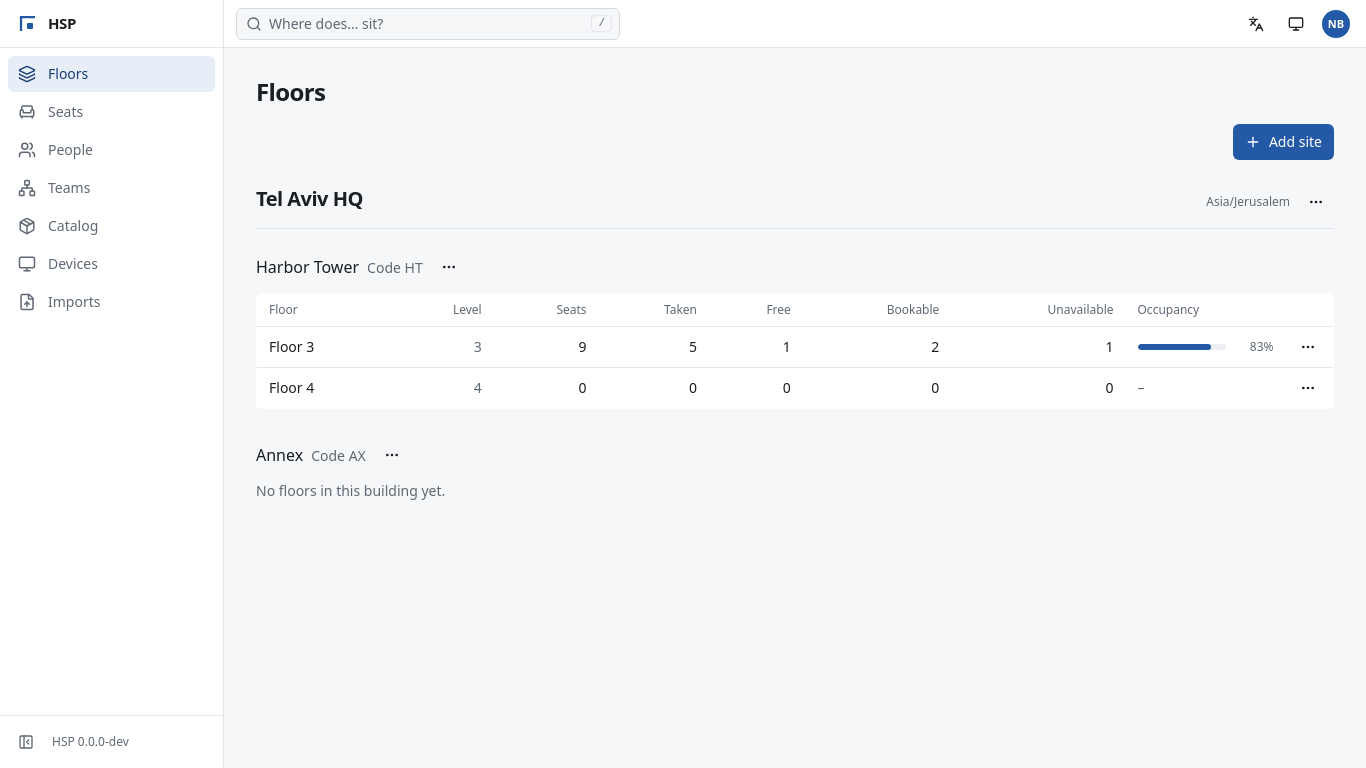
Scenario: floors page (docs/0085, docs/0087) › admins add, edit and archive locations; Undo restores and gives seats back
The width and height of the screenshot is (1366, 768).
Click the button "Add site": (1283,142) [1233,124,1334,160]
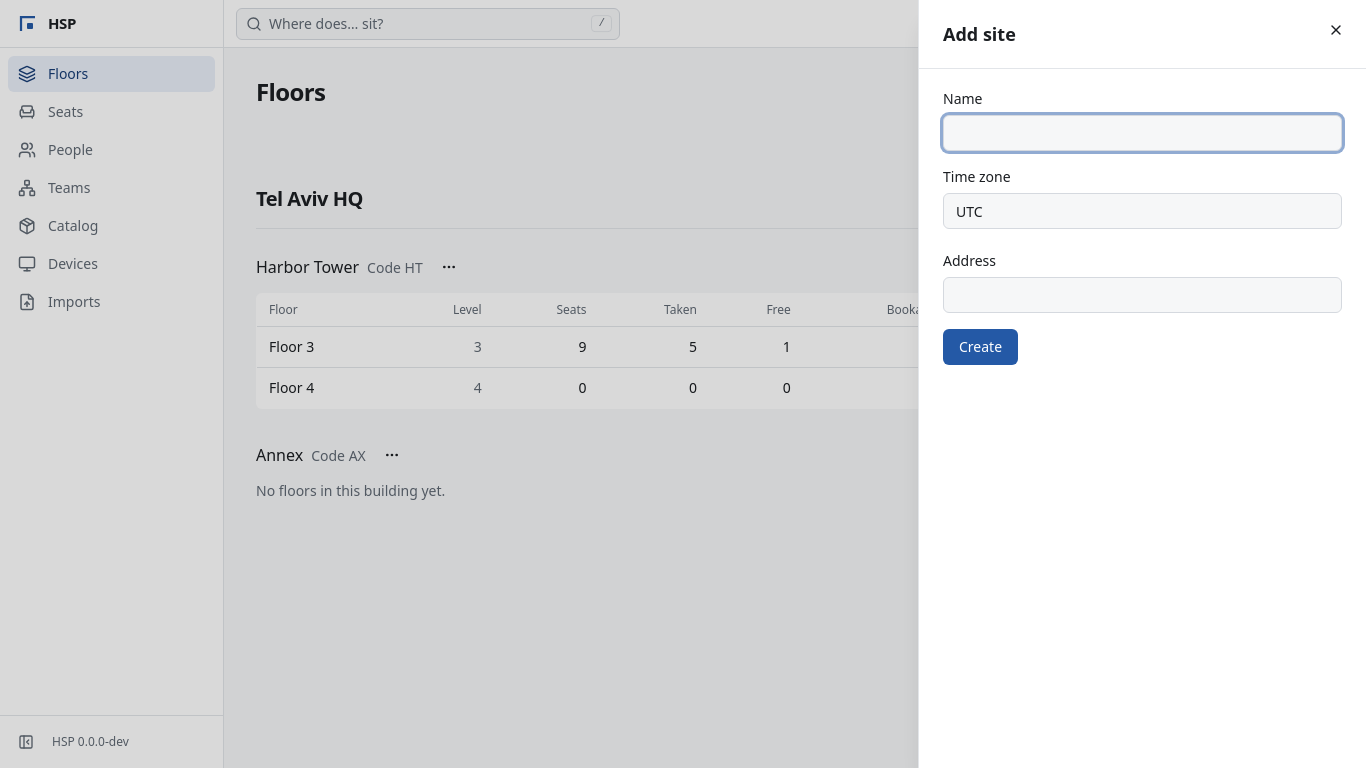
In the field labelled "Name": (1142,133) [943,115,1342,151], type "Haifa"
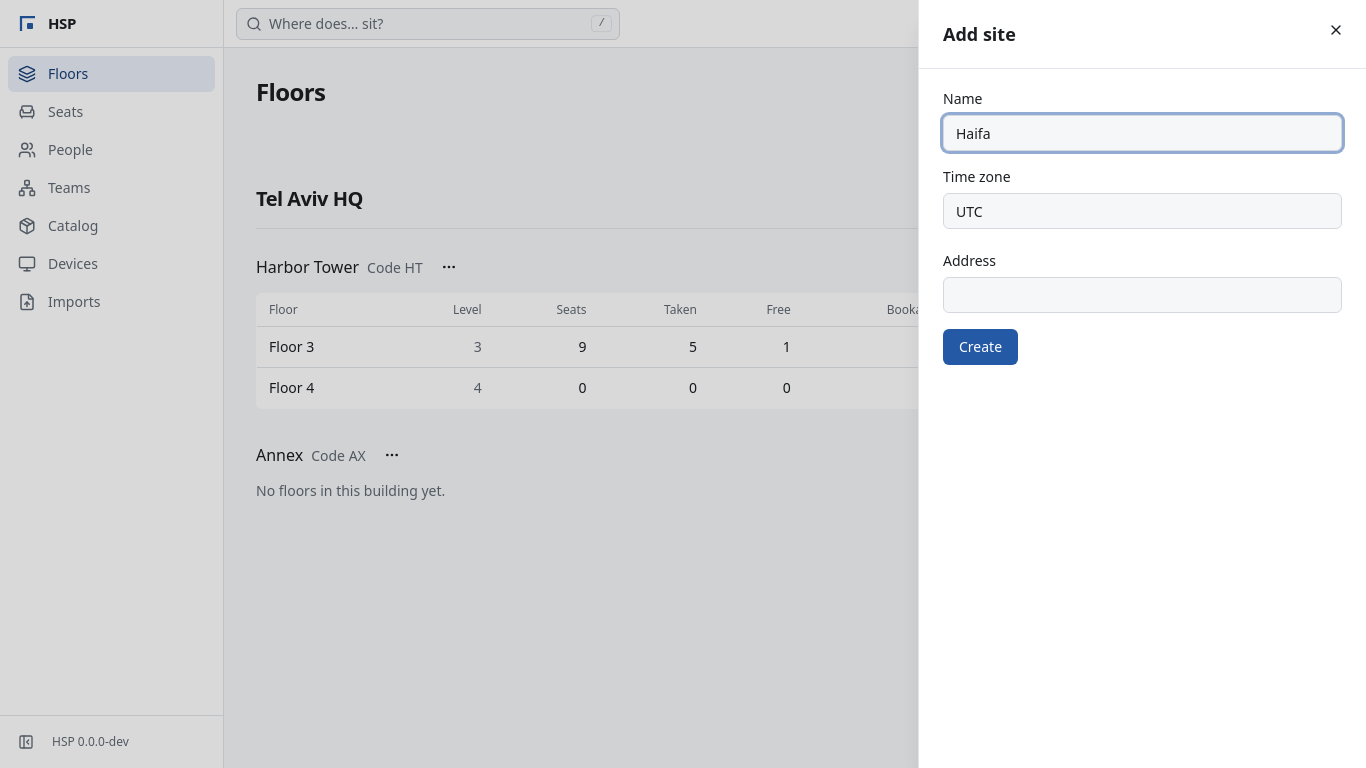
Click the button "Create": (981,347) [943,329,1018,365]
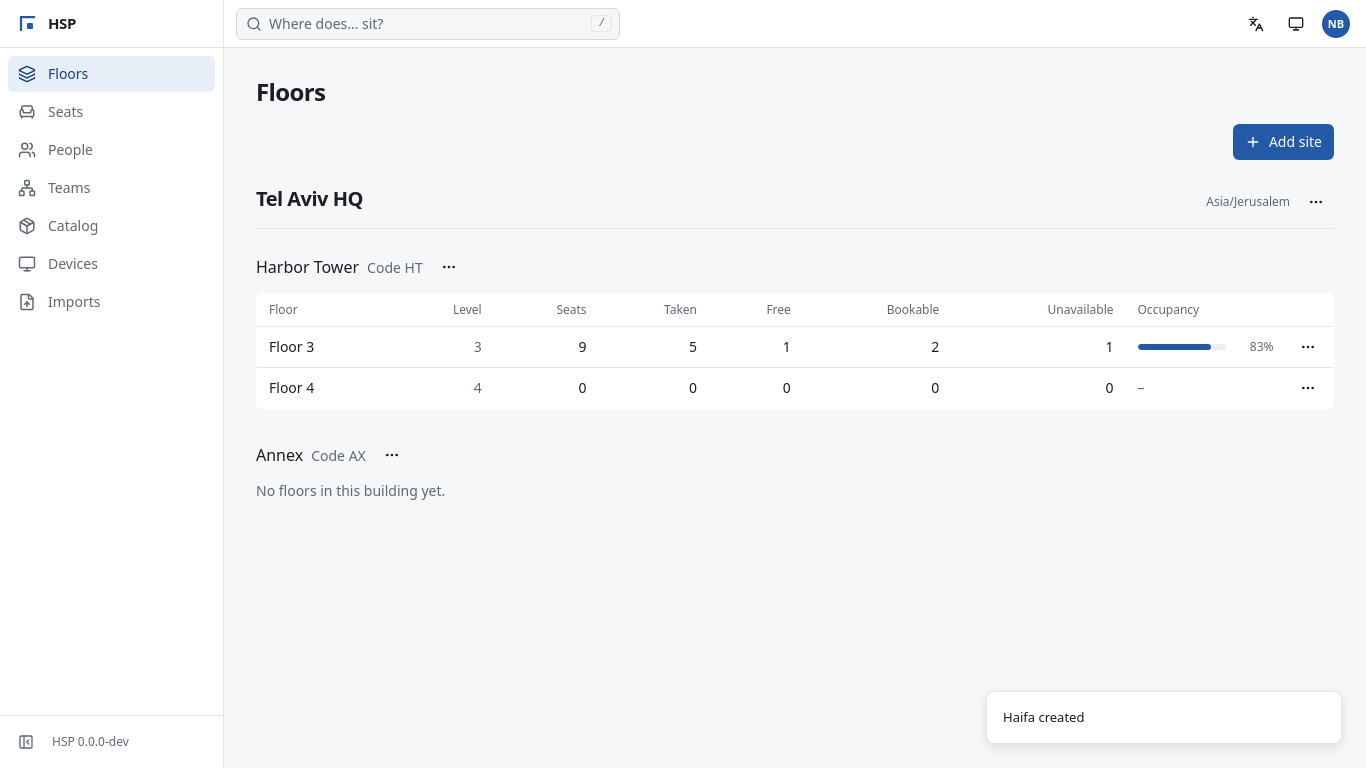
expect the text "Haifa created" is shown: met, box [1003,708,1084,727]
Click the button named "Actions for Floor 3": (1308,347) [1290,329,1326,365]
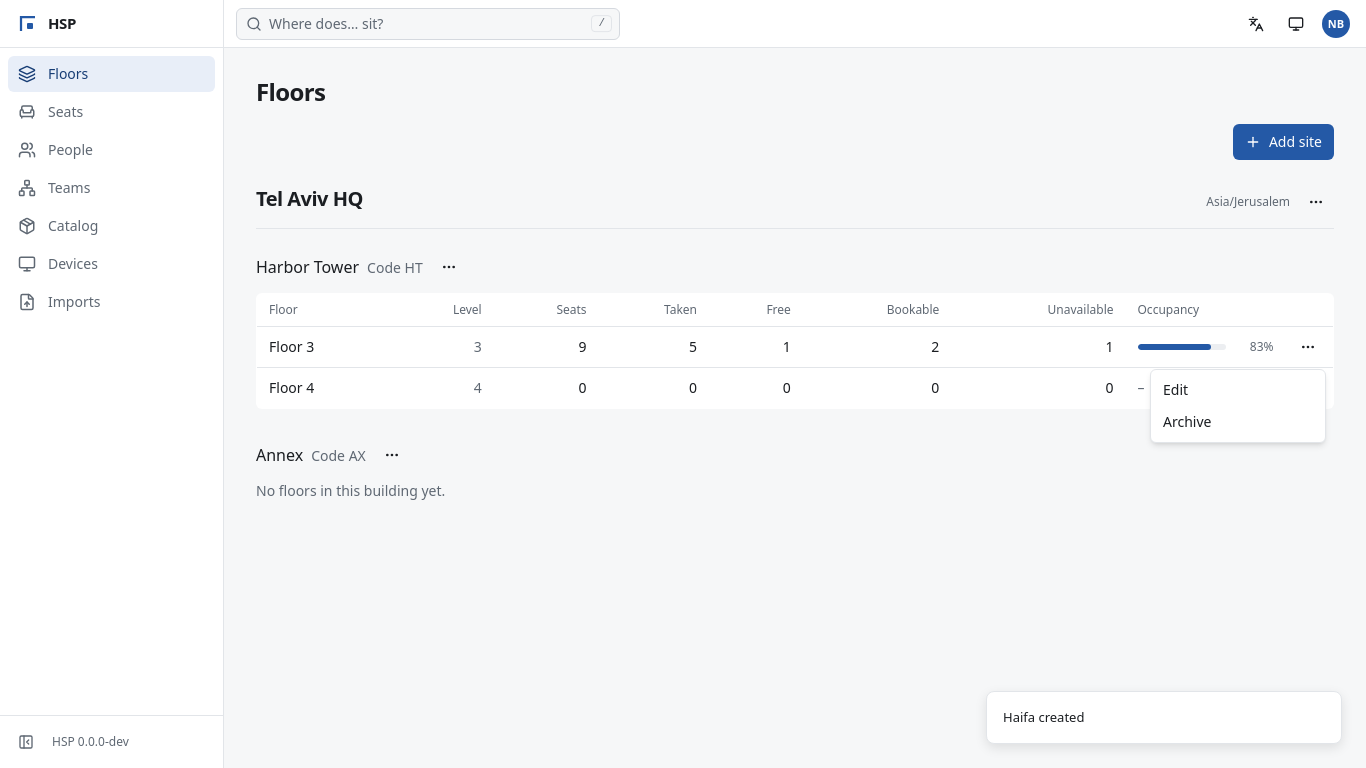
Click the menu item "Archive": (1187,422) [1163,412,1212,431]
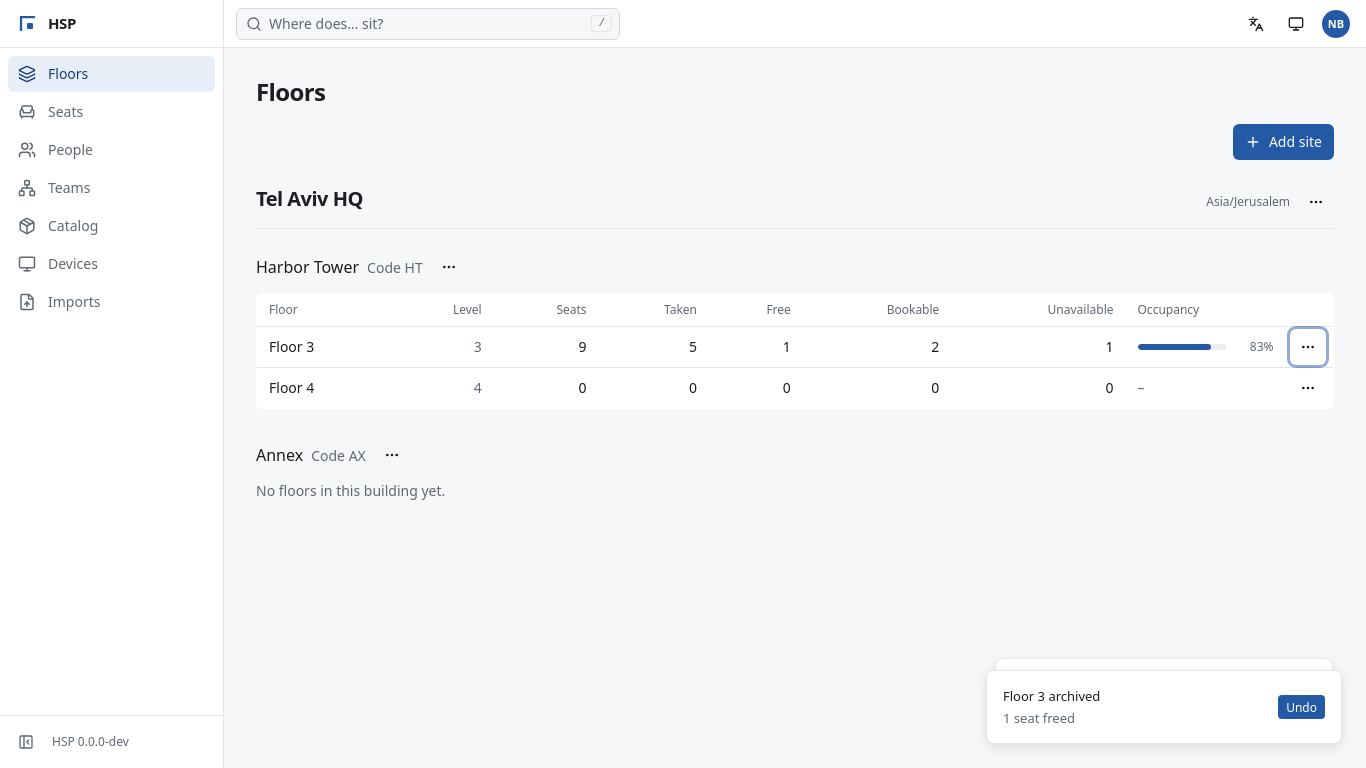
expect the text "Floor 3 archived" is shown: met, box [1003,687,1100,707]
expect the text "1 seat freed" is shown: met, box [1003,709,1075,727]
Click the button "Undo": (1302,707) [1278,695,1325,719]
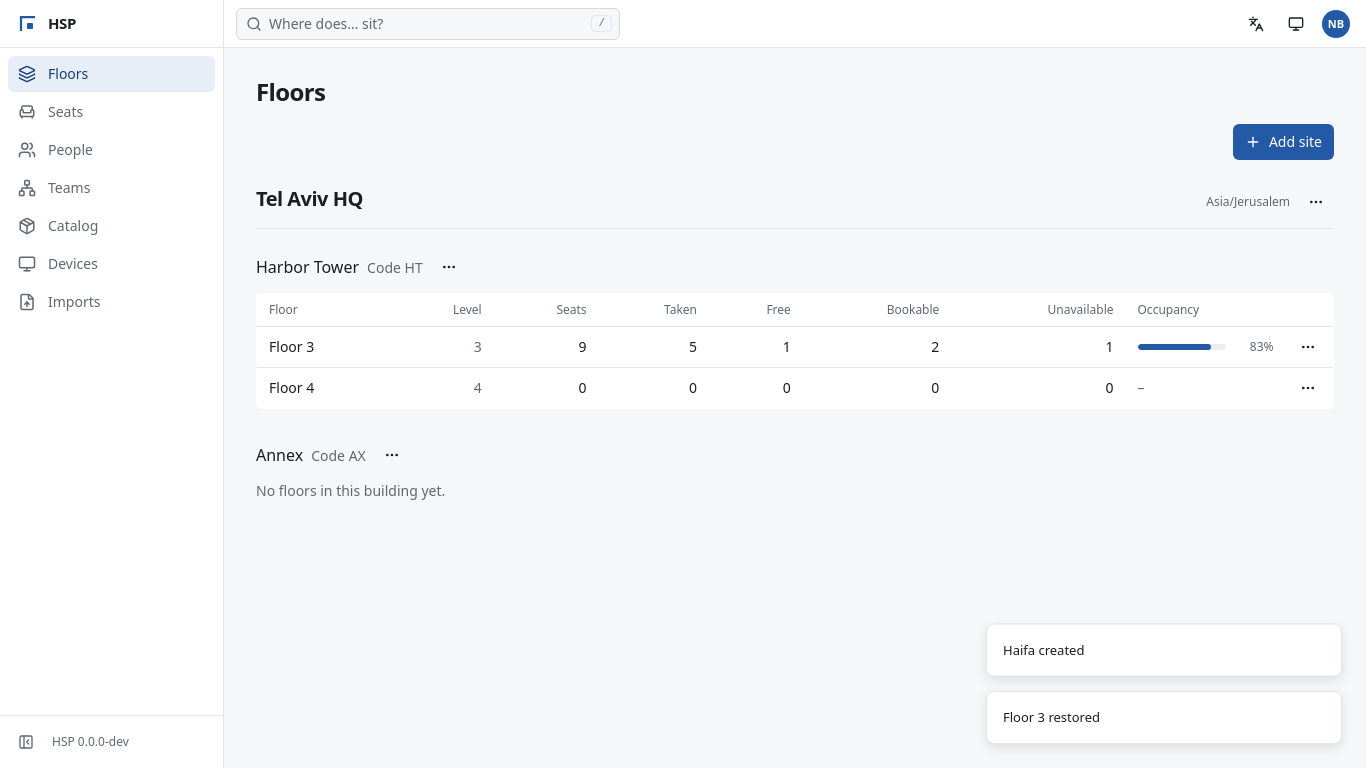
expect the text "Floor 3 restored" is shown: met, box [1003,708,1100,727]
